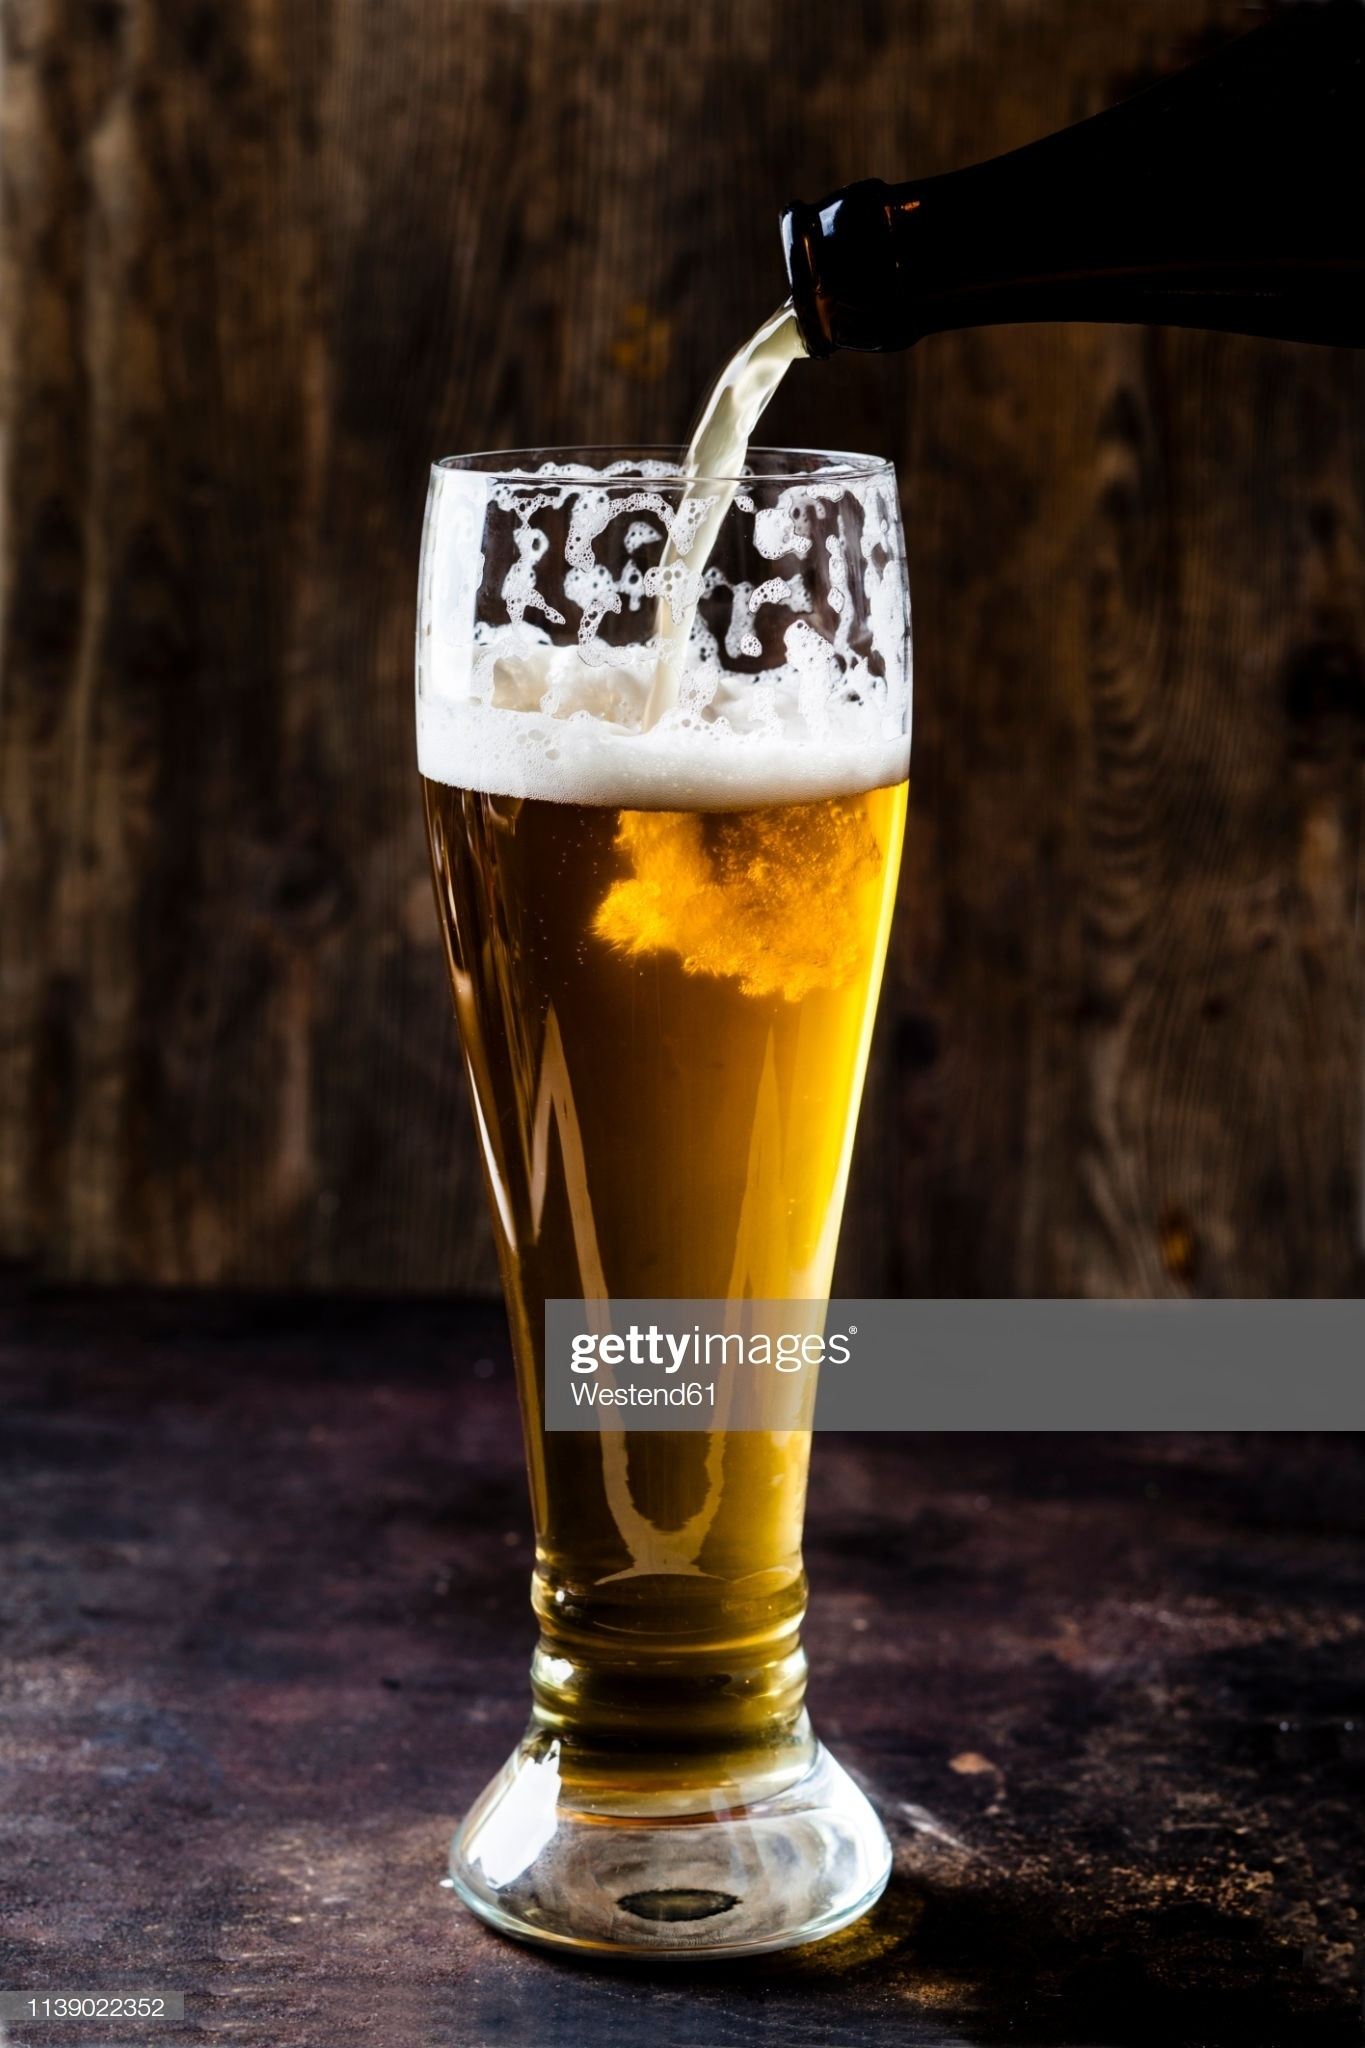whiskey: (393, 414, 919, 1970)
